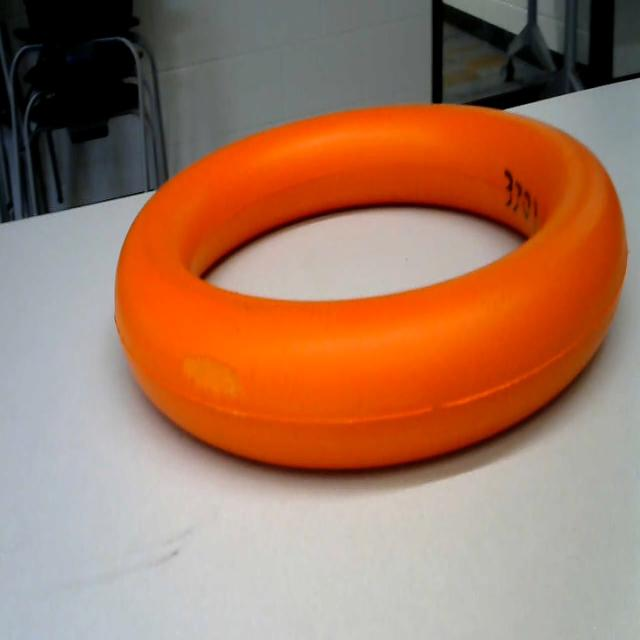note: (95, 92, 640, 507)
